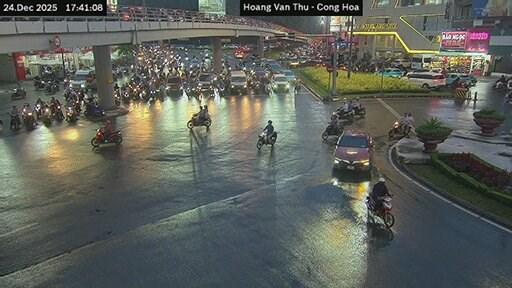motorbike: (365, 196, 393, 226), (90, 129, 120, 144), (320, 122, 342, 139), (387, 121, 409, 136), (258, 130, 275, 148), (330, 108, 354, 120), (22, 108, 35, 129), (188, 116, 211, 127), (83, 102, 102, 115), (10, 85, 25, 98), (51, 104, 63, 120), (41, 107, 51, 125), (44, 81, 57, 94), (9, 113, 19, 129), (352, 104, 364, 117), (66, 107, 76, 121), (35, 76, 44, 89), (35, 103, 42, 117), (493, 81, 506, 88), (114, 90, 120, 104)
